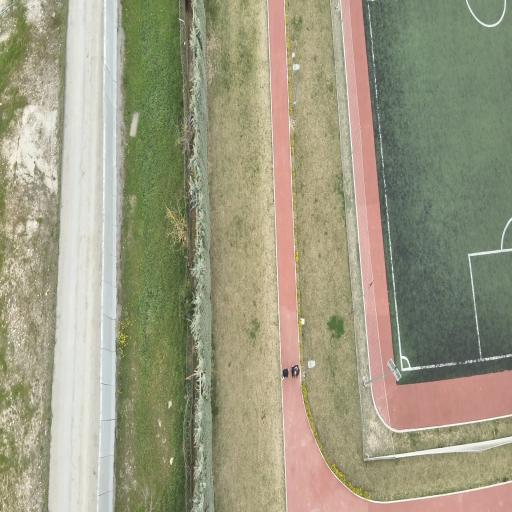person: (292, 366, 299, 377), (282, 368, 288, 379)
